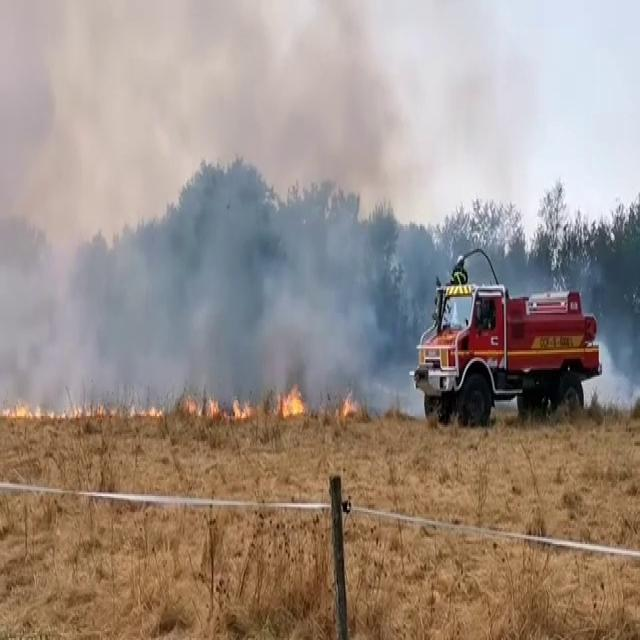Fire: (194, 374, 309, 423), (0, 393, 78, 427)
Smoke: (2, 23, 422, 432)
